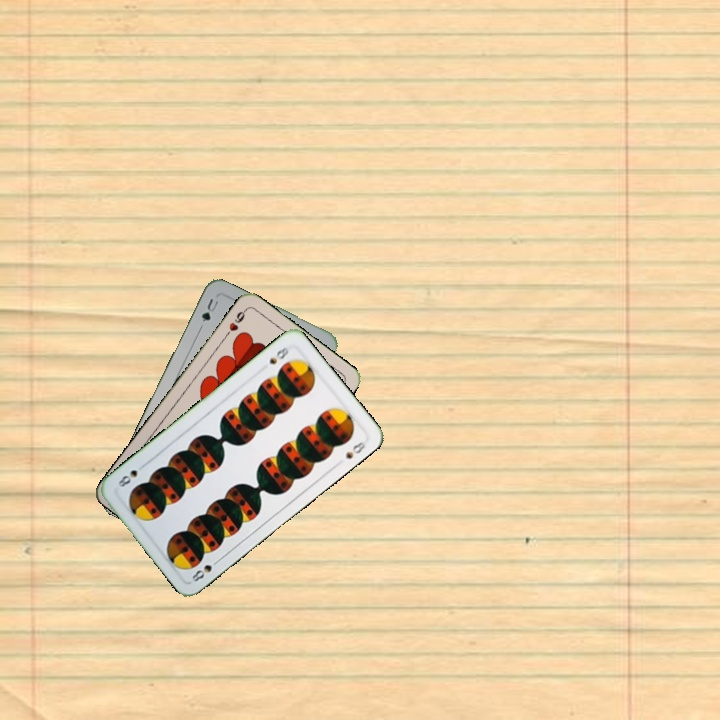GU: (197, 294, 222, 325)
H9: (220, 305, 249, 340)
S8: (188, 554, 223, 584), (265, 343, 291, 367)
